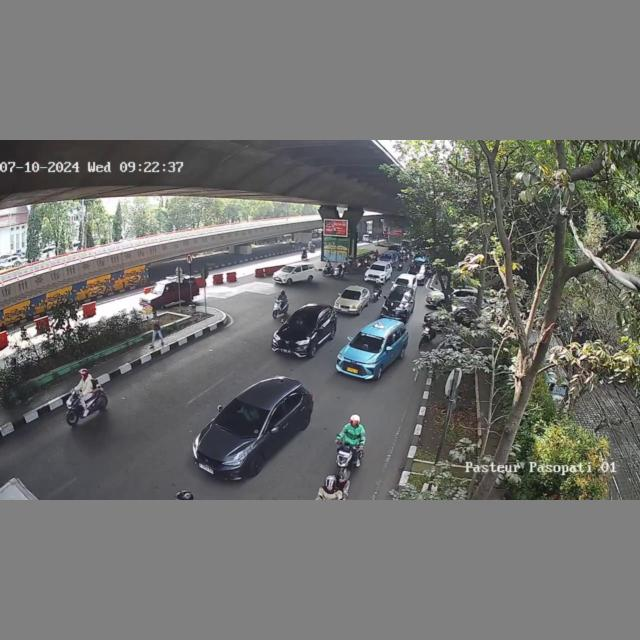windshield: (217, 398, 273, 431), (351, 331, 385, 351), (288, 312, 319, 329), (388, 290, 410, 302), (340, 290, 362, 300)
